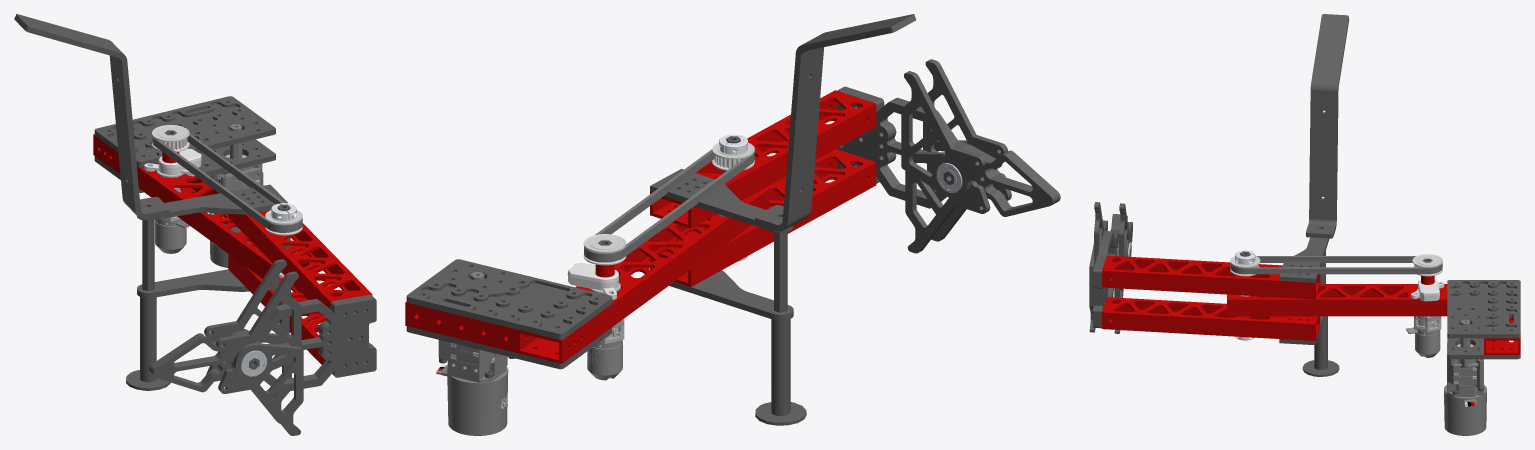
Rendered from robot-2025-climber-fast.glb.
The picture shows the model from 3 angles, left to right: view 1: azimuth 30°, elevation 25°; view 2: azimuth 150°, elevation 25°; view 3: azimuth 270°, elevation 25°; orthographic projection. The views are drawn at different scales.
Parts seen in each view (by area): view 1: ClimberFingers (×4), ClimberBody (×2), RotatingTube (×2), MotorMountingPlate, Part 19, MainTube, LeveragePlates (×2), 125t 5mm Belt, BackupPlate, ShorterSpacer, 24t 9mm Wide 1/2" Hex Bore Double Flange 5mm HTD Aluminum Pu (×2), NEO 550 Motor (REV-21-1651) (+6 smaller); view 2: RotatingTube (×2), ClimberFingers (×4), MotorMountingPlate, MainTube, ClimberBody (×2), Part 19, LeveragePlates (×2), NEO Brushless Motor (REV-21-1650), 125t 5mm Belt, BottomTube, ShorterSpacer, 24t 9mm Wide 1/2" Hex Bore Double Flange 5mm HTD Aluminum Pu (×2) (+7 smaller); view 3: RotatingTube (×2), Part 19, MainTube, MotorMountingPlate, 125t 5mm Belt, NEO Brushless Motor (REV-21-1650), ClimberBody (×2), ClimberFingers (×2), LeveragePlates, BackupPlate, NEO 550 Motor (REV-21-1651), BottomTube (+3 smaller).
Part boxes in pixels (box(x1,y1,x2,y2)): ClimberFingers (×4): box(204, 259, 303, 435); ClimberBody (×2): box(149, 294, 376, 392); RotatingTube (×2): box(228, 210, 372, 364); MotorMountingPlate: box(94, 96, 275, 167); Part 19: box(14, 14, 169, 219); MainTube: box(93, 134, 314, 283); LeveragePlates (×2): box(137, 184, 287, 298); 125t 5mm Belt: box(152, 133, 302, 232); BackupPlate: box(95, 139, 275, 192); ShorterSpacer: box(140, 297, 156, 382); 24t 9mm Wide 1/2" Hex Bore Double Flange 5mm HTD Aluminum Pu (×2): box(152, 125, 302, 235); NEO 550 Motor (REV-21-1651): box(155, 219, 190, 253); RotatingTube (×2): box(650, 90, 876, 286); ClimberFingers (×4): box(901, 59, 1011, 253); MotorMountingPlate: box(406, 259, 612, 339); MainTube: box(517, 188, 768, 363); ClimberBody (×2): box(836, 86, 1060, 216); Part 19: box(755, 14, 916, 231); LeveragePlates (×2): box(650, 168, 793, 320); NEO Brushless Motor (REV-21-1650): box(436, 365, 508, 435); 125t 5mm Belt: box(584, 149, 754, 262); BottomTube: box(405, 301, 517, 352); ShorterSpacer: box(771, 319, 790, 415); 24t 9mm Wide 1/2" Hex Bore Double Flange 5mm HTD Aluminum Pu (×2): box(583, 142, 754, 265); RotatingTube (×2): box(1102, 255, 1320, 340); Part 19: box(1306, 14, 1349, 238); MainTube: box(1227, 284, 1447, 316); MotorMountingPlate: box(1447, 280, 1520, 338); 125t 5mm Belt: box(1230, 256, 1442, 274); NEO Brushless Motor (REV-21-1650): box(1444, 385, 1486, 435); ClimberBody (×2): box(1093, 214, 1127, 328); ClimberFingers (×2): box(1094, 202, 1132, 265); LeveragePlates: box(1279, 237, 1329, 282); BackupPlate: box(1447, 338, 1520, 359); NEO 550 Motor (REV-21-1651): box(1406, 327, 1440, 357); BottomTube: box(1484, 318, 1520, 354).
Bounding box in the file's own units: 0.4251 × 0.4714 × 0.5969.
